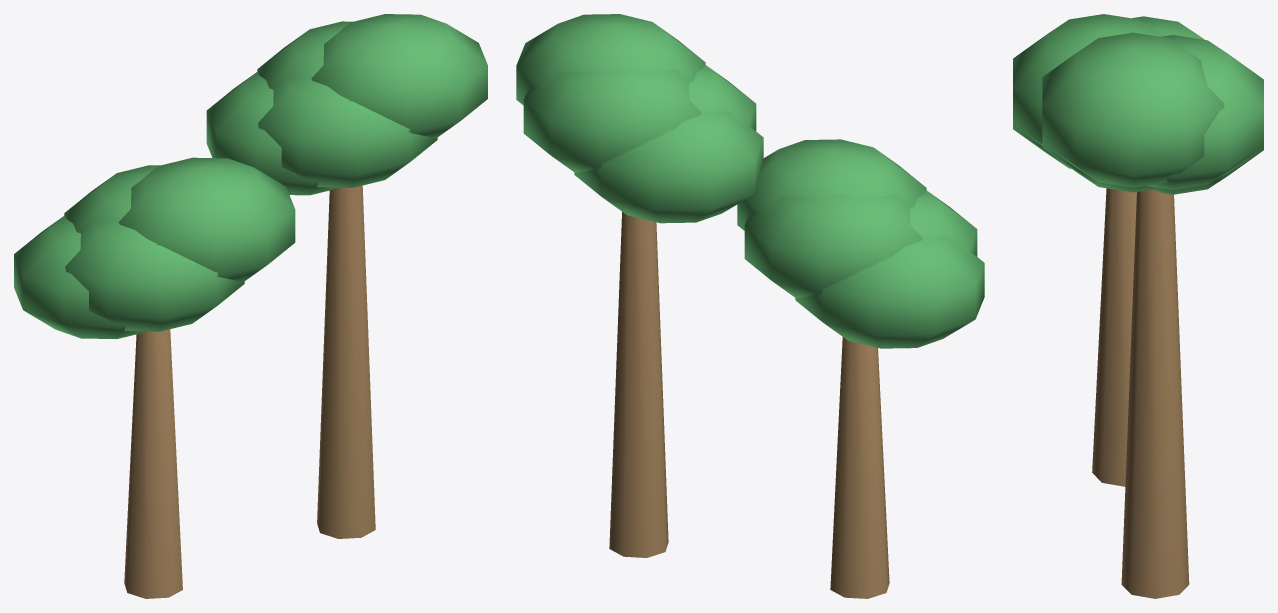
The model's file is jungle_trees.glb.
3 renders of one model, left to right at view 1: azimuth 30°, elevation 25°; view 2: azimuth 150°, elevation 25°; view 3: azimuth 270°, elevation 25°, orthographic. The views are drawn at different scales.
Visible parts, largest first — view 1: jungle_trees; view 2: jungle_trees; view 3: jungle_trees.
Part boxes in pixels (<box>): jungle_trees: <box>14,14,487,598</box>; jungle_trees: <box>516,14,984,598</box>; jungle_trees: <box>1013,14,1263,598</box>.
Bounding box in the file's own units: 3.94 × 4.16 × 1.7.
